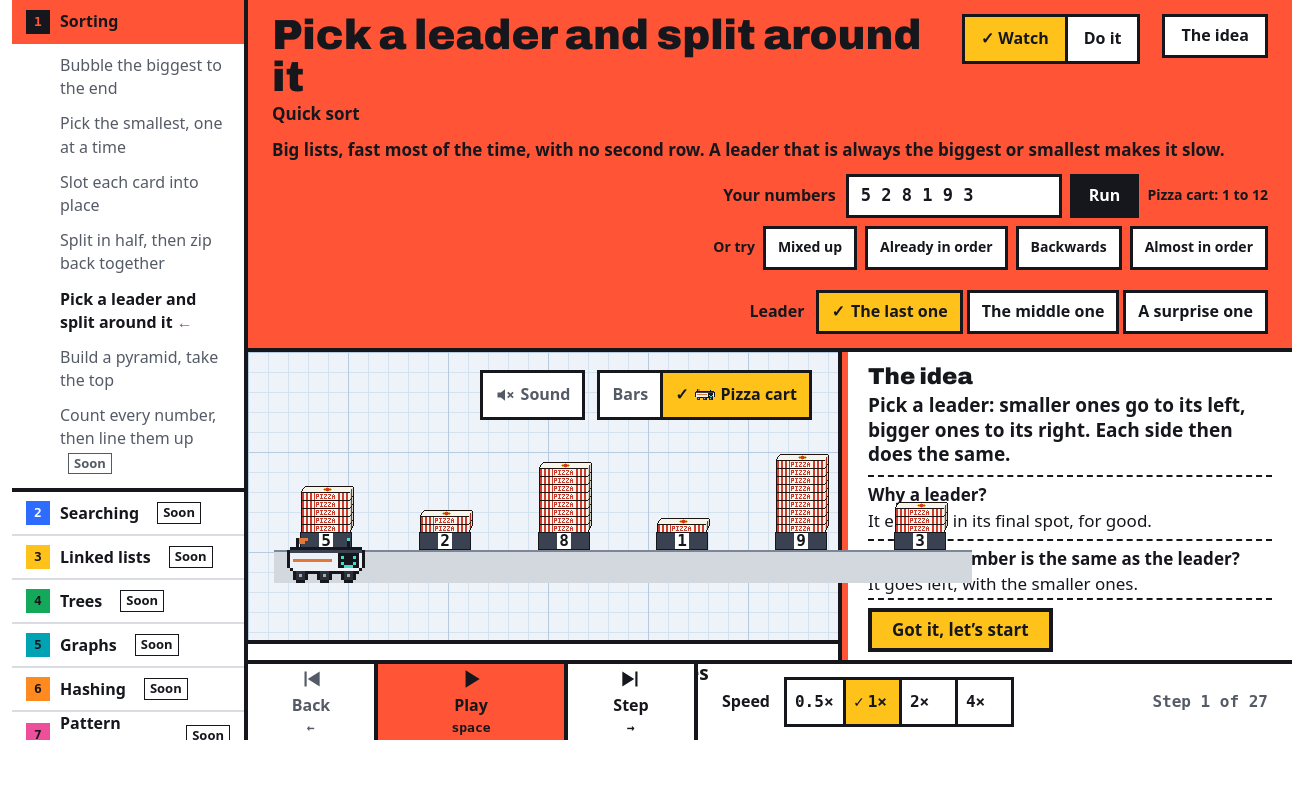
Test: the pizza look meets numbers (phone: false) › explorer, watch: adding a number above 12 shows the message; removing it brings the cart back
Replace the text in the field labelled "Your numbers" with "5 2 8 1 9 3 40" at (954, 196), box [846,174,1062,218]
Then press Enter
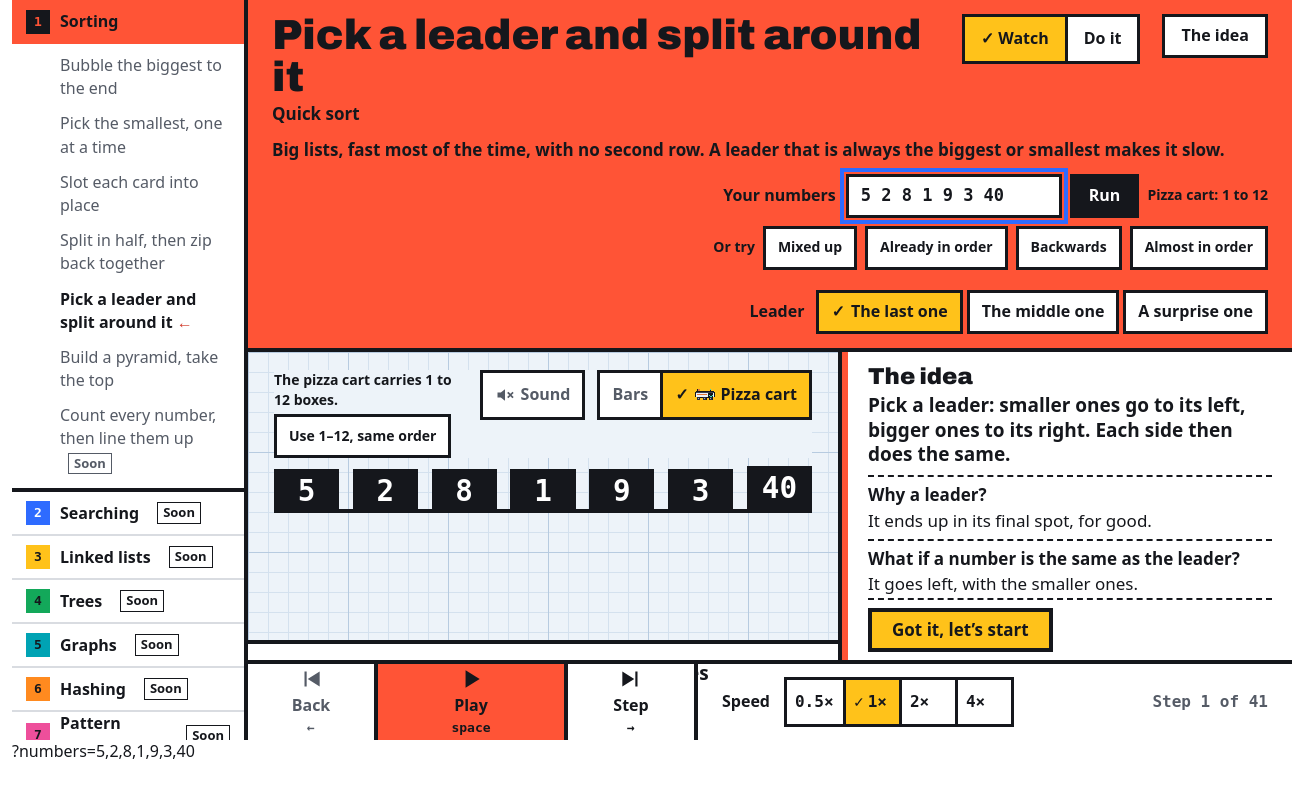
Result: the element with class "stage-bar" showing "5" is shown at [274,469,339,509]
Result: the message with class "range-notice" shows "The pizza cart carries 1 to 12 boxes." at [274,370,452,409]
Result: the button "Use 1–12, same order" is shown at [274,414,452,458]
Replace the text in the field labelled "Your numbers" with "5 2 8 1 9 3" at (954, 196), box [846,174,1062,218]
Then press Enter
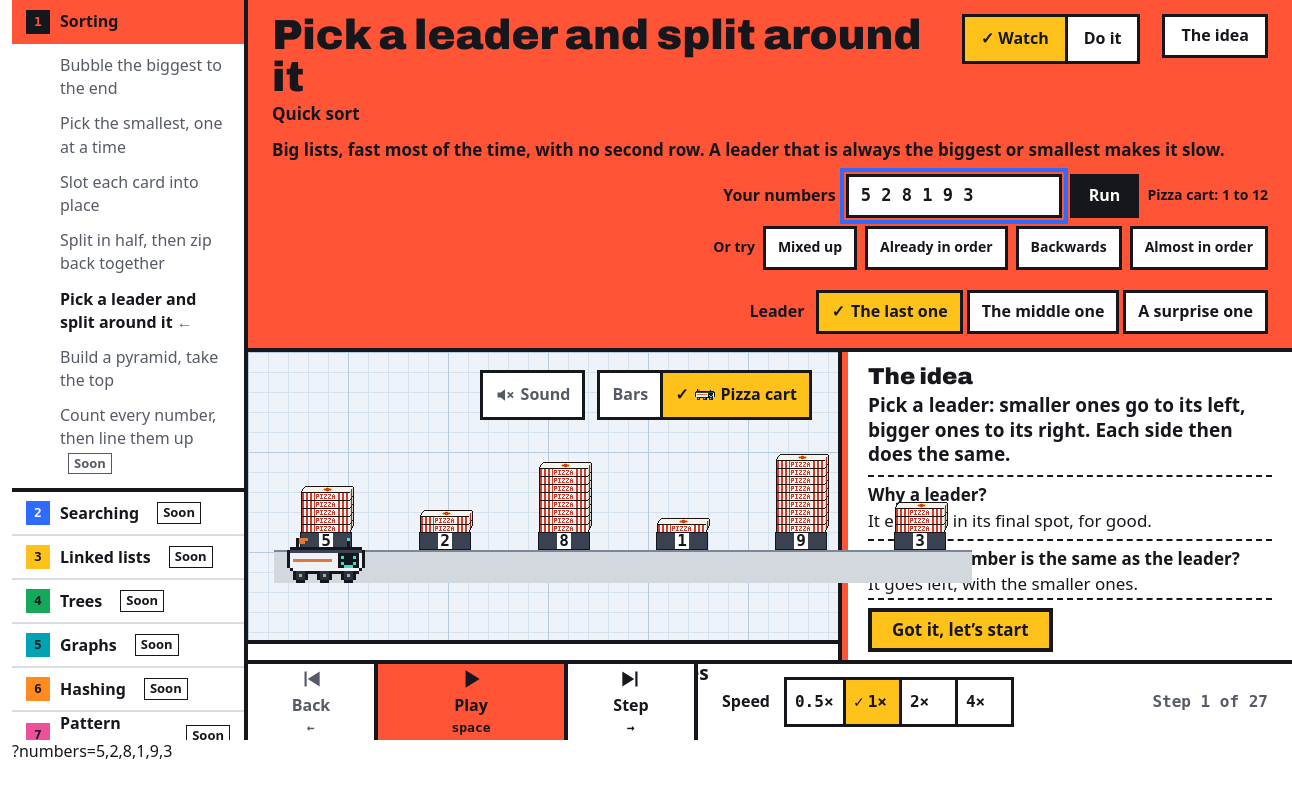
Result: the message with class "range-notice" is gone
